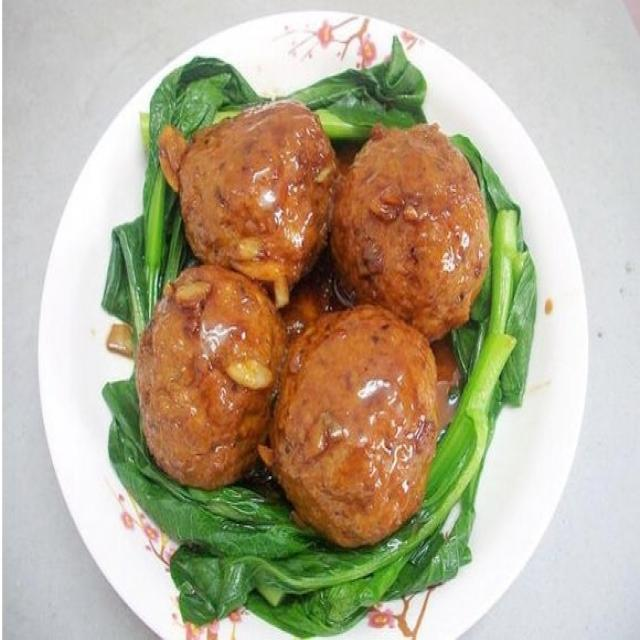Meatball: (264, 305, 448, 552), (321, 109, 498, 336), (123, 254, 287, 496), (158, 90, 341, 304)
